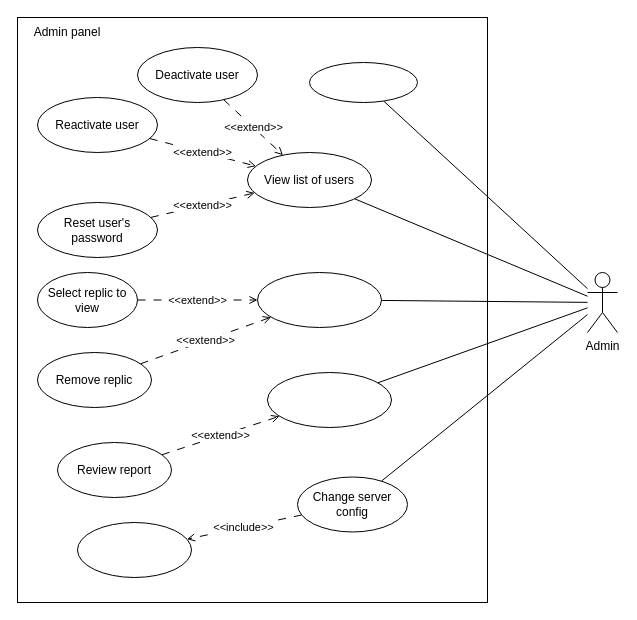
The diagram is 637 pixels wide and 620 high, and some of its shapes have lost their labels. The box of each missing label's shape, as (x1, y1, x2, y2) in pixels:
Create user: (308, 62, 418, 102)
Restart server: (76, 522, 192, 578)
View list of replics: (256, 272, 382, 328)
View list of reports: (266, 372, 392, 428)
